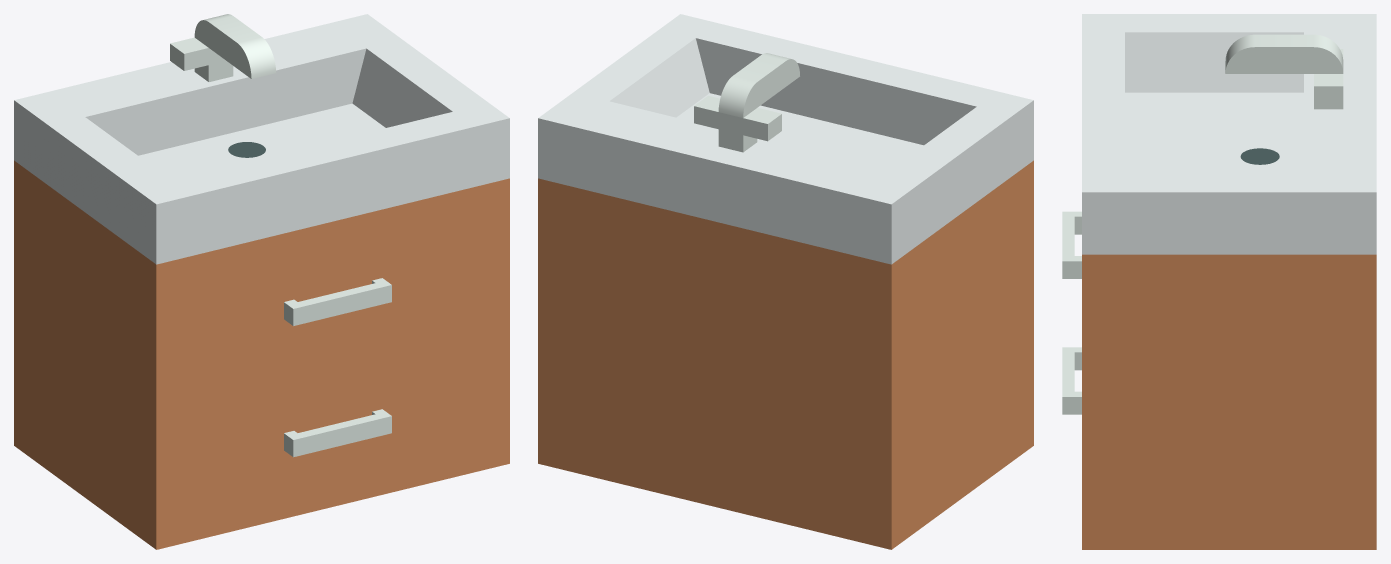
The picture shows the model from 3 angles, left to right: view 1: azimuth 30°, elevation 25°; view 2: azimuth 150°, elevation 25°; view 3: azimuth 270°, elevation 25°; orthographic projection. The views are drawn at different scales.
Visible parts, largest first — view 1: bathroomCabinetDrawer(Clone), drawerBottom, drawerTop; view 2: bathroomCabinetDrawer(Clone); view 3: bathroomCabinetDrawer(Clone), drawerBottom, drawerTop.
Boxes of the visible parts, left/top/right/bottom form: bathroomCabinetDrawer(Clone): left=14, top=14, right=509, bottom=549; drawerBottom: left=178, top=338, right=487, bottom=521; drawerTop: left=178, top=207, right=487, bottom=389; bathroomCabinetDrawer(Clone): left=538, top=14, right=1033, bottom=549; bathroomCabinetDrawer(Clone): left=1082, top=14, right=1376, bottom=549; drawerBottom: left=1062, top=347, right=1081, bottom=414; drawerTop: left=1062, top=211, right=1081, bottom=278.
Size of the model in its own units: 0.43 by 0.4718 by 0.32.
